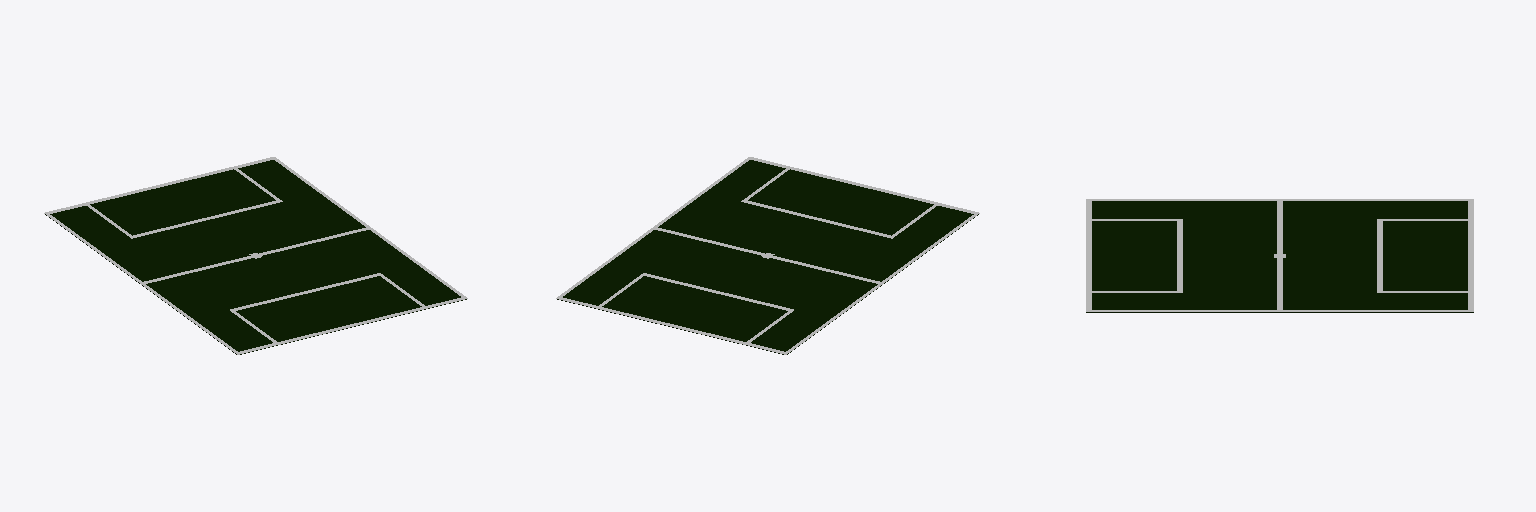
File: FootballField.obj
3 renders of one model, left to right at view 1: azimuth 30°, elevation 25°; view 2: azimuth 150°, elevation 25°; view 3: azimuth 270°, elevation 25°, orthographic.
Visible parts, largest first — view 1: FootballField_Plane; view 2: FootballField_Plane; view 3: FootballField_Plane.
Boxes of the visible parts, x1,y1,x2,y2 form: FootballField_Plane: [44, 157, 467, 354]; FootballField_Plane: [556, 157, 979, 354]; FootballField_Plane: [1086, 199, 1473, 312].
Size of the model in its own units: 10.04 by 0.02 by 14.62.